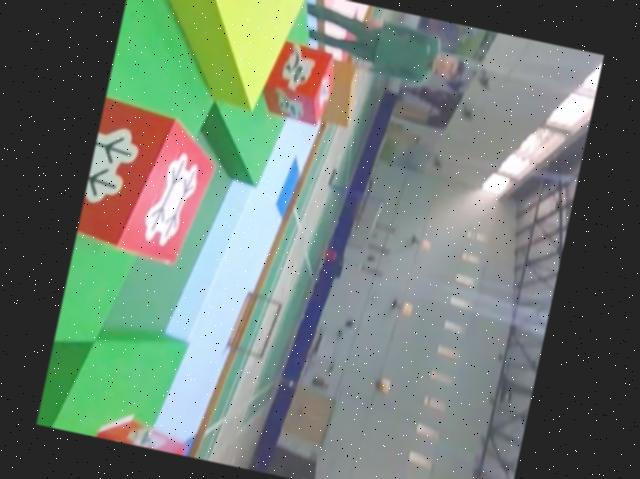R1: (254, 27, 347, 131), (78, 399, 195, 457)
R2 Real: (75, 96, 232, 270)
